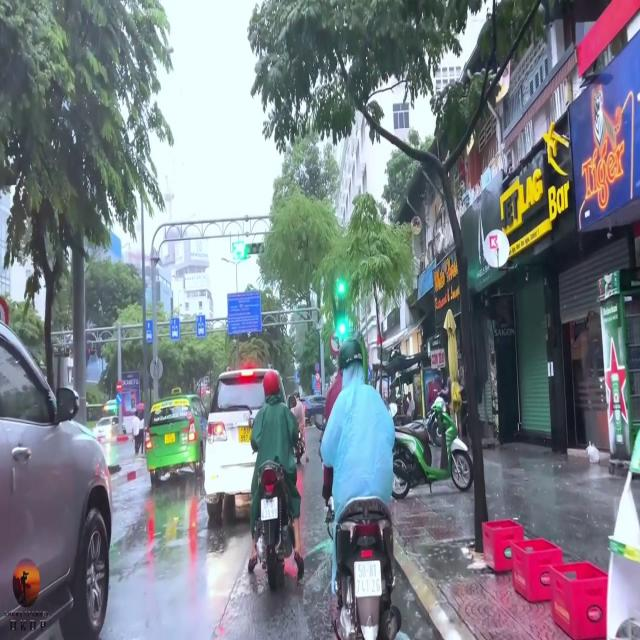bien_vang: (239, 426, 256, 444), (164, 434, 175, 442)
